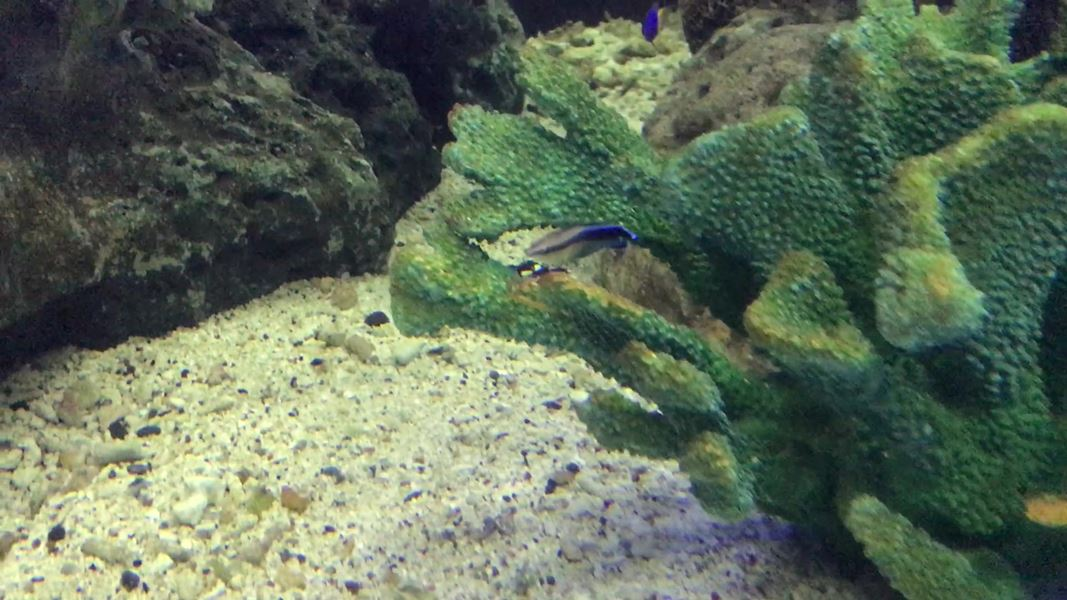Bluesteak cleaner wrasse: (511, 216, 637, 267)
